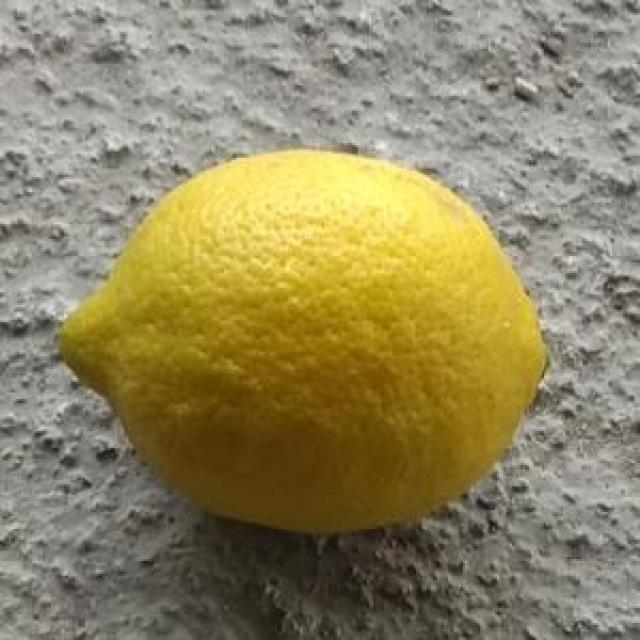lemon: (54, 152, 548, 538)
